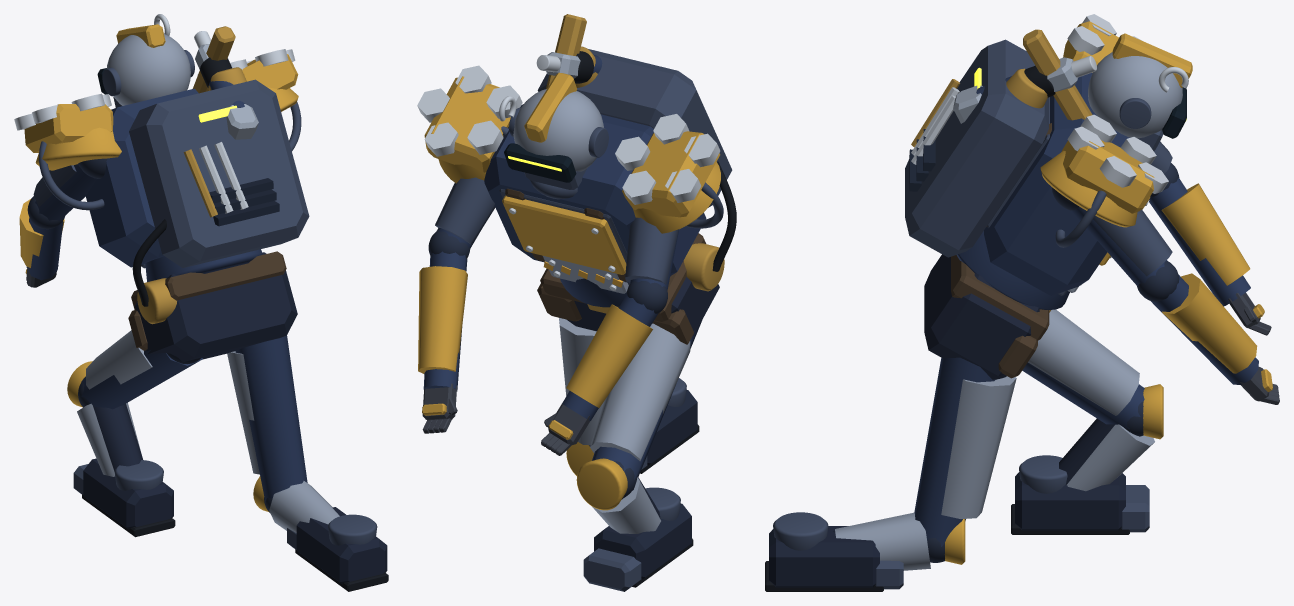
Rendered from hero_forge_revive.glb.
3 views of the same model, side by side, from view 1: azimuth 30°, elevation 25°; view 2: azimuth 150°, elevation 25°; view 3: azimuth 270°, elevation 25° (orthographic). The views are drawn at different scales.
Visible parts, largest first — view 1: hero_forge_revive_pack_body, hero_forge_revive_pelvis, hero_forge_revive_thigh_r, hero_forge_revive_chest, hero_forge_revive_helmet, hero_forge_revive_boot_r, hero_forge_revive_boot_l, hero_forge_revive_belt, hero_forge_revive_thigh_l, hero_forge_revive_pauldron_heavy-1, hero_forge_revive_greave_r, hero_forge_revive_thigh_plate_l (+28 smaller); view 2: hero_forge_revive_chest, hero_forge_revive_pack_body, hero_forge_revive_thigh_plate_l, hero_forge_revive_chest_plate_face, hero_forge_revive_bracer_r, hero_forge_revive_bracer_l, hero_forge_revive_pauldron_bolts-1, hero_forge_revive_helmet, hero_forge_revive_pauldron_bolts1, hero_forge_revive_pauldron_heavy-1, hero_forge_revive_pauldron_heavy1, hero_forge_revive_boot_l (+36 smaller); view 3: hero_forge_revive_pack_body, hero_forge_revive_chest, hero_forge_revive_pelvis, hero_forge_revive_thigh_plate_r, hero_forge_revive_thigh_plate_l, hero_forge_revive_thigh_r, hero_forge_revive_boot_r, hero_forge_revive_helmet, hero_forge_revive_boot_l, hero_forge_revive_bracer_r, hero_forge_revive_bracer_l, hero_forge_revive_pauldron_heavy1 (+31 smaller).
Part boxes in pixels (x1,y1,x2,y2): hero_forge_revive_pack_body: [129, 79, 309, 267]; hero_forge_revive_pelvis: [134, 252, 297, 362]; hero_forge_revive_thigh_r: [235, 335, 307, 502]; hero_forge_revive_chest: [85, 88, 198, 267]; hero_forge_revive_helmet: [106, 34, 190, 105]; hero_forge_revive_boot_r: [296, 507, 387, 584]; hero_forge_revive_boot_l: [83, 458, 173, 529]; hero_forge_revive_belt: [131, 251, 286, 309]; hero_forge_revive_thigh_l: [81, 350, 202, 409]; hero_forge_revive_pauldron_heavy-1: [24, 104, 113, 152]; hero_forge_revive_greave_r: [269, 481, 339, 532]; hero_forge_revive_thigh_plate_l: [86, 330, 152, 389]; hero_forge_revive_chest: [484, 104, 706, 282]; hero_forge_revive_pack_body: [537, 49, 732, 207]; hero_forge_revive_thigh_plate_l: [590, 323, 690, 461]; hero_forge_revive_chest_plate_face: [502, 195, 626, 274]; hero_forge_revive_bracer_r: [418, 266, 467, 373]; hero_forge_revive_bracer_l: [566, 304, 652, 407]; hero_forge_revive_pauldron_bolts-1: [615, 114, 720, 204]; hero_forge_revive_helmet: [513, 89, 603, 171]; hero_forge_revive_pauldron_bolts1: [417, 65, 522, 156]; hero_forge_revive_pauldron_heavy-1: [622, 131, 720, 217]; hero_forge_revive_pauldron_heavy1: [424, 76, 510, 172]; hero_forge_revive_boot_l: [594, 503, 691, 579]; hero_forge_revive_pack_body: [905, 39, 1048, 257]; hero_forge_revive_chest: [984, 72, 1129, 295]; hero_forge_revive_pelvis: [924, 254, 1039, 379]; hero_forge_revive_thigh_plate_r: [941, 376, 1016, 518]; hero_forge_revive_thigh_plate_l: [1028, 309, 1139, 415]; hero_forge_revive_thigh_r: [914, 357, 995, 546]; hero_forge_revive_boot_r: [769, 526, 879, 587]; hero_forge_revive_helmet: [1088, 52, 1182, 138]; hero_forge_revive_boot_l: [1015, 472, 1125, 530]; hero_forge_revive_bracer_r: [1162, 273, 1257, 373]; hero_forge_revive_bracer_l: [1161, 183, 1250, 285]; hero_forge_revive_pauldron_heavy1: [1061, 140, 1154, 213].
Bounding box in the file's own units: 0.8608 × 1.5 × 1.3.
